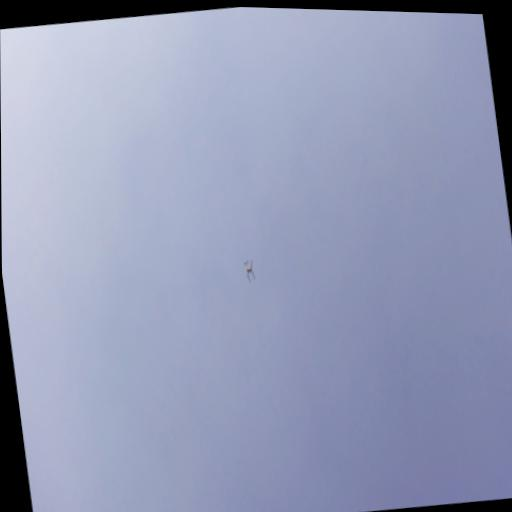drones: (243, 258, 257, 284)
